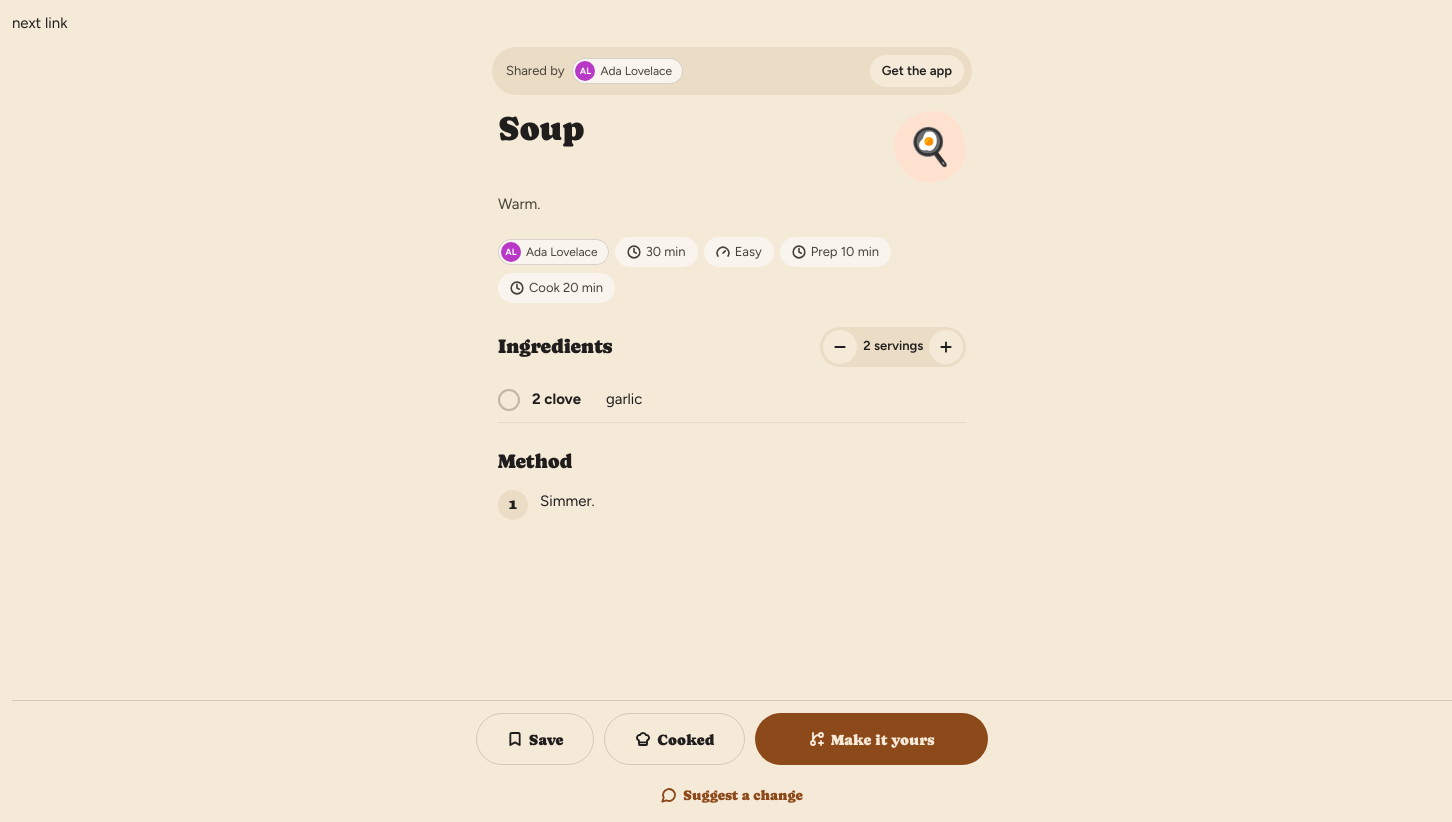
Test: SharedRecipePage /shared/:id › closes suggest mode when the route moves to another recipe
Click the button "Suggest a change" at (732, 795), box [476,773,988,817]
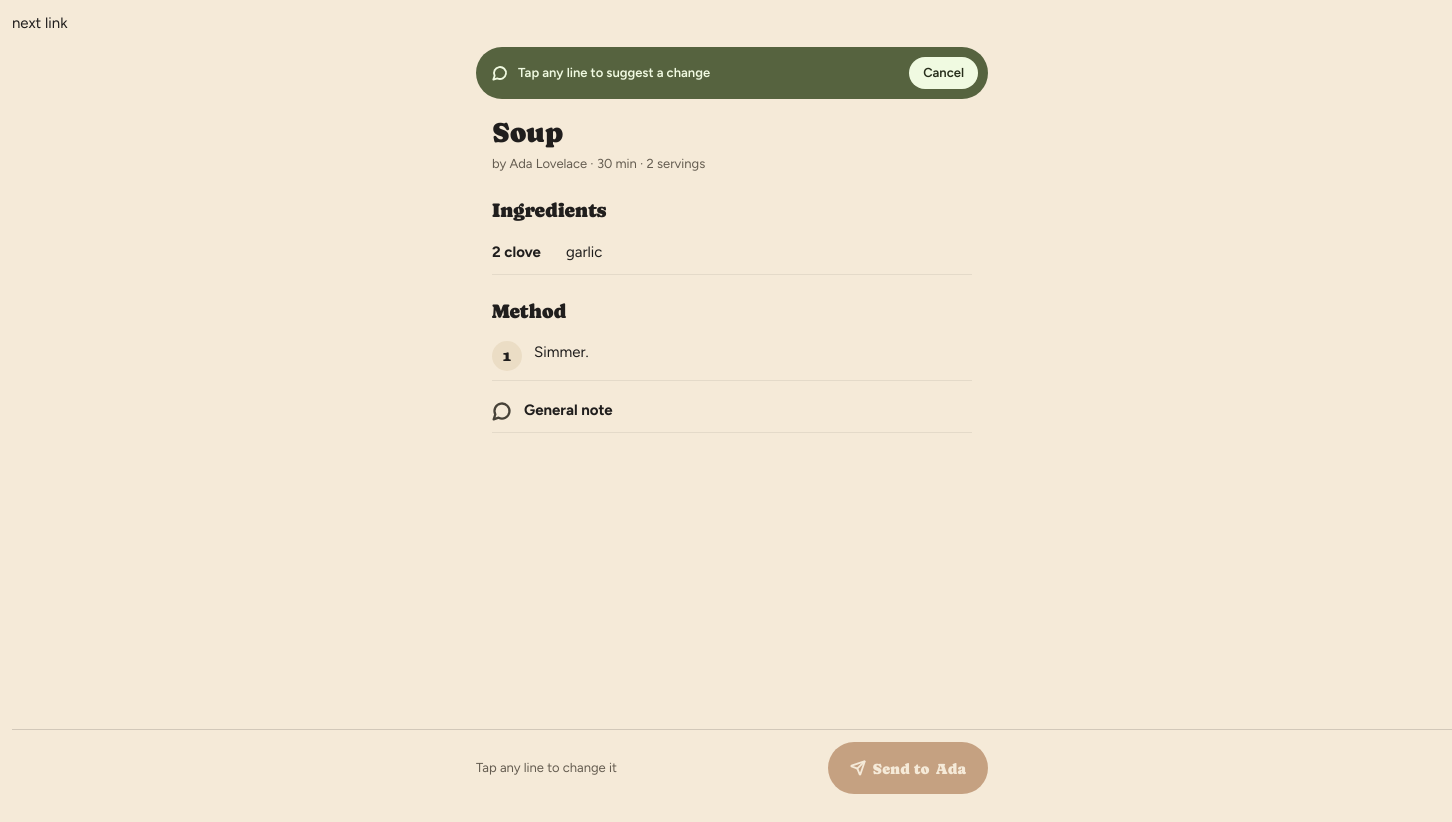
Now the button "General note" is shown, box [492,389,972,433]
Click the link "next link" at (40, 23), box [12,14,67,32]
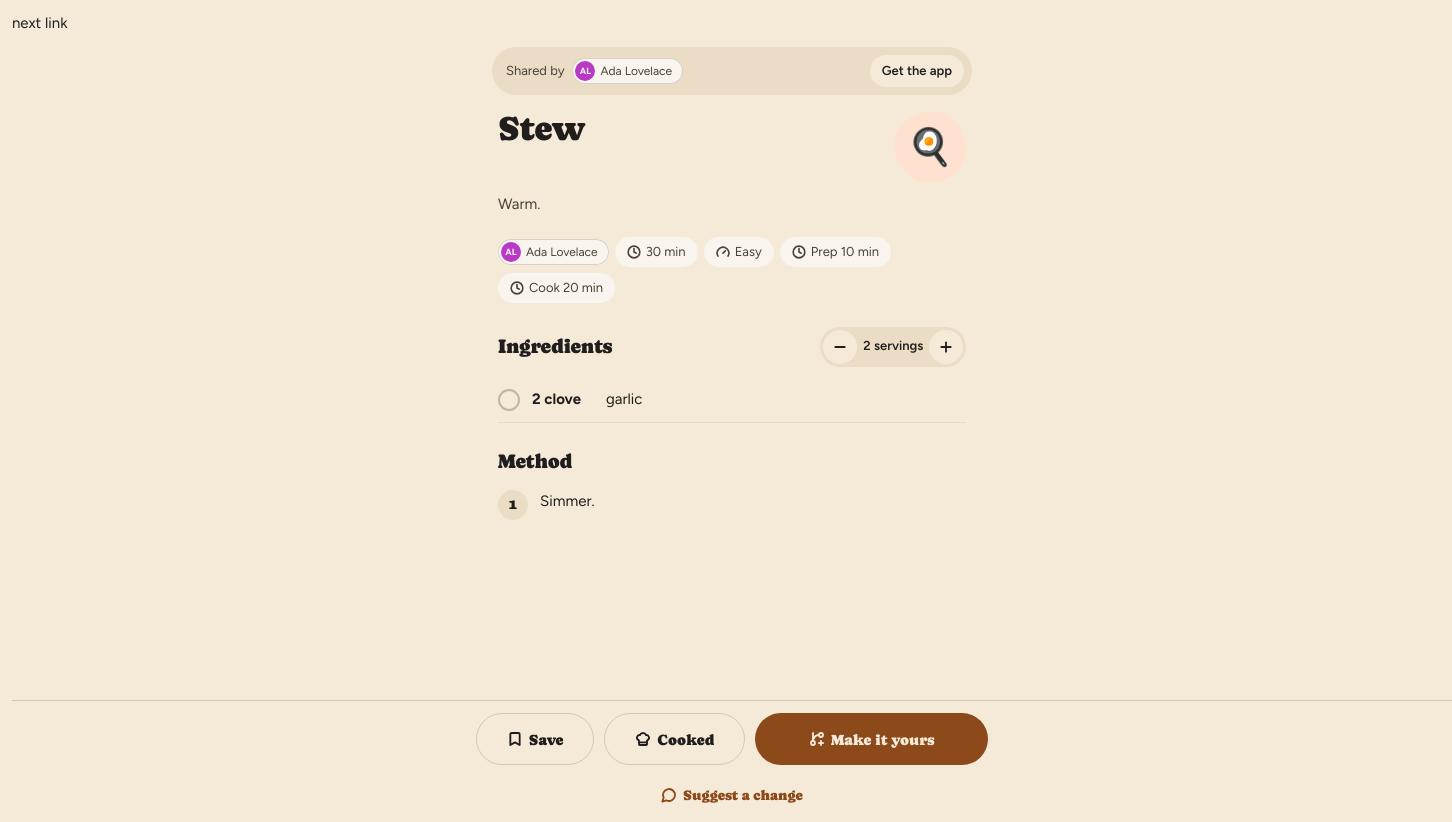
Now the heading "Stew" is shown, box [498,109,585,148]
Now the button "General note" is gone
